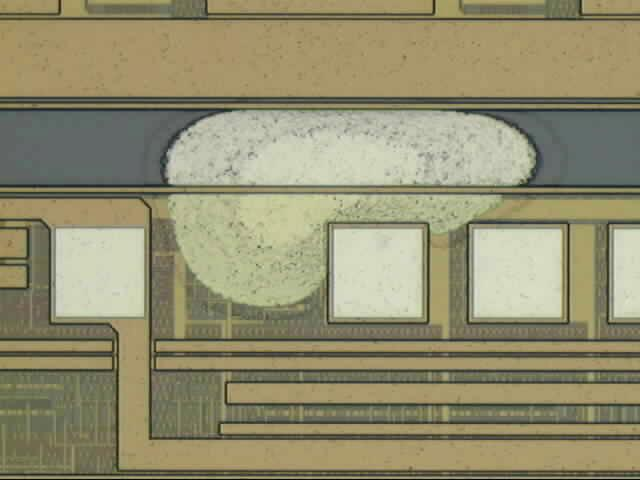BLOCK ETCH: (144, 108, 565, 324)
